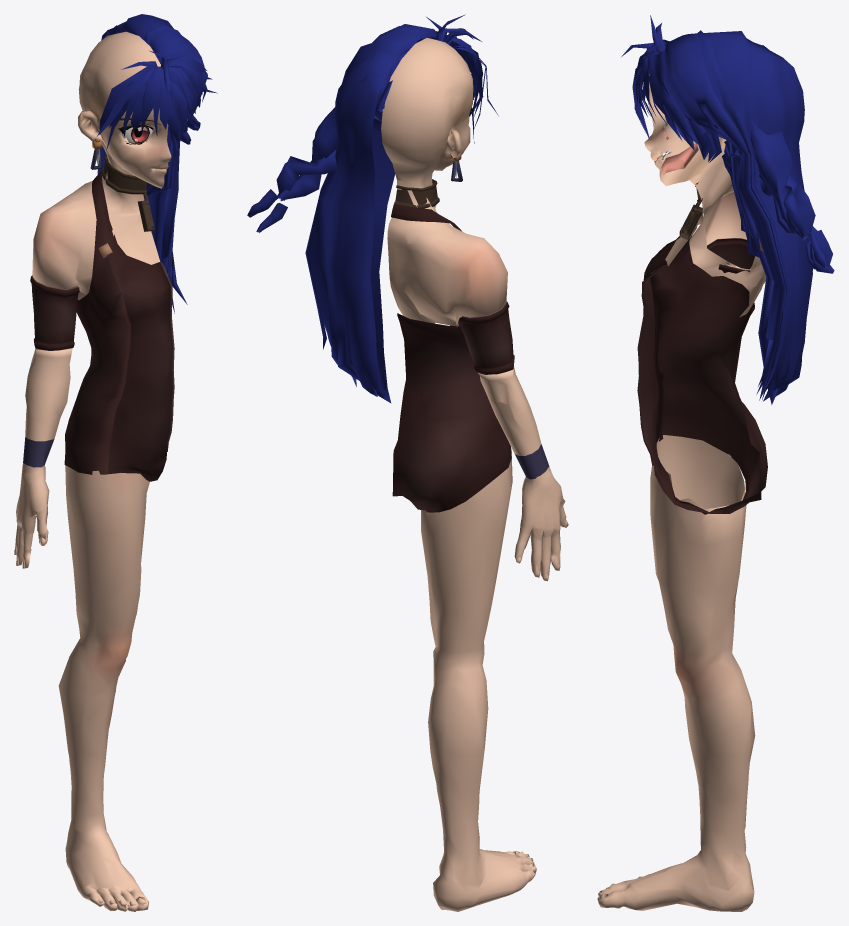
File: anime-girl.gltf
3 views of the same model, side by side, from view 1: azimuth 30°, elevation 25°; view 2: azimuth 150°, elevation 25°; view 3: azimuth 270°, elevation 25° (orthographic). The views are drawn at different scales.
Visible parts, largest first — view 1: Plane.001, Plane.005, Cube, Plane.004, Plane.000, Cube.002; view 2: Plane.001, Plane.004, Plane.005, Plane.000, Cube; view 3: Plane.001, Plane.004, Plane.005, Plane.000, Cube, Cube.003.
Part boxes in pixels (x1,y1,x2,y2): Plane.001: (14, 31, 171, 911); Plane.005: (64, 172, 174, 481); Cube: (97, 58, 217, 150); Plane.004: (97, 14, 204, 313); Plane.000: (113, 22, 201, 144); Cube.002: (121, 50, 190, 94); Plane.001: (381, 38, 568, 911); Plane.004: (305, 24, 438, 403); Plane.005: (391, 203, 511, 512); Plane.000: (247, 35, 438, 232); Cube: (432, 28, 498, 143); Plane.001: (597, 73, 766, 911); Plane.004: (658, 30, 813, 404); Plane.005: (637, 235, 767, 514); Plane.000: (659, 43, 834, 273); Cube: (632, 39, 680, 138); Cube.003: (657, 73, 712, 159).
Bounding box in the file's own units: 2.59 × 8.62 × 2.04.
